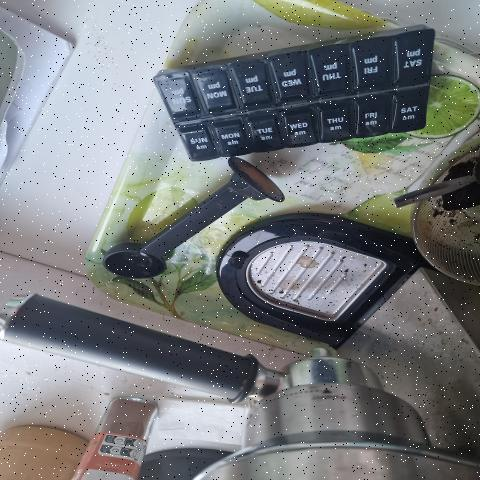PillBox: (116, 15, 452, 194)
